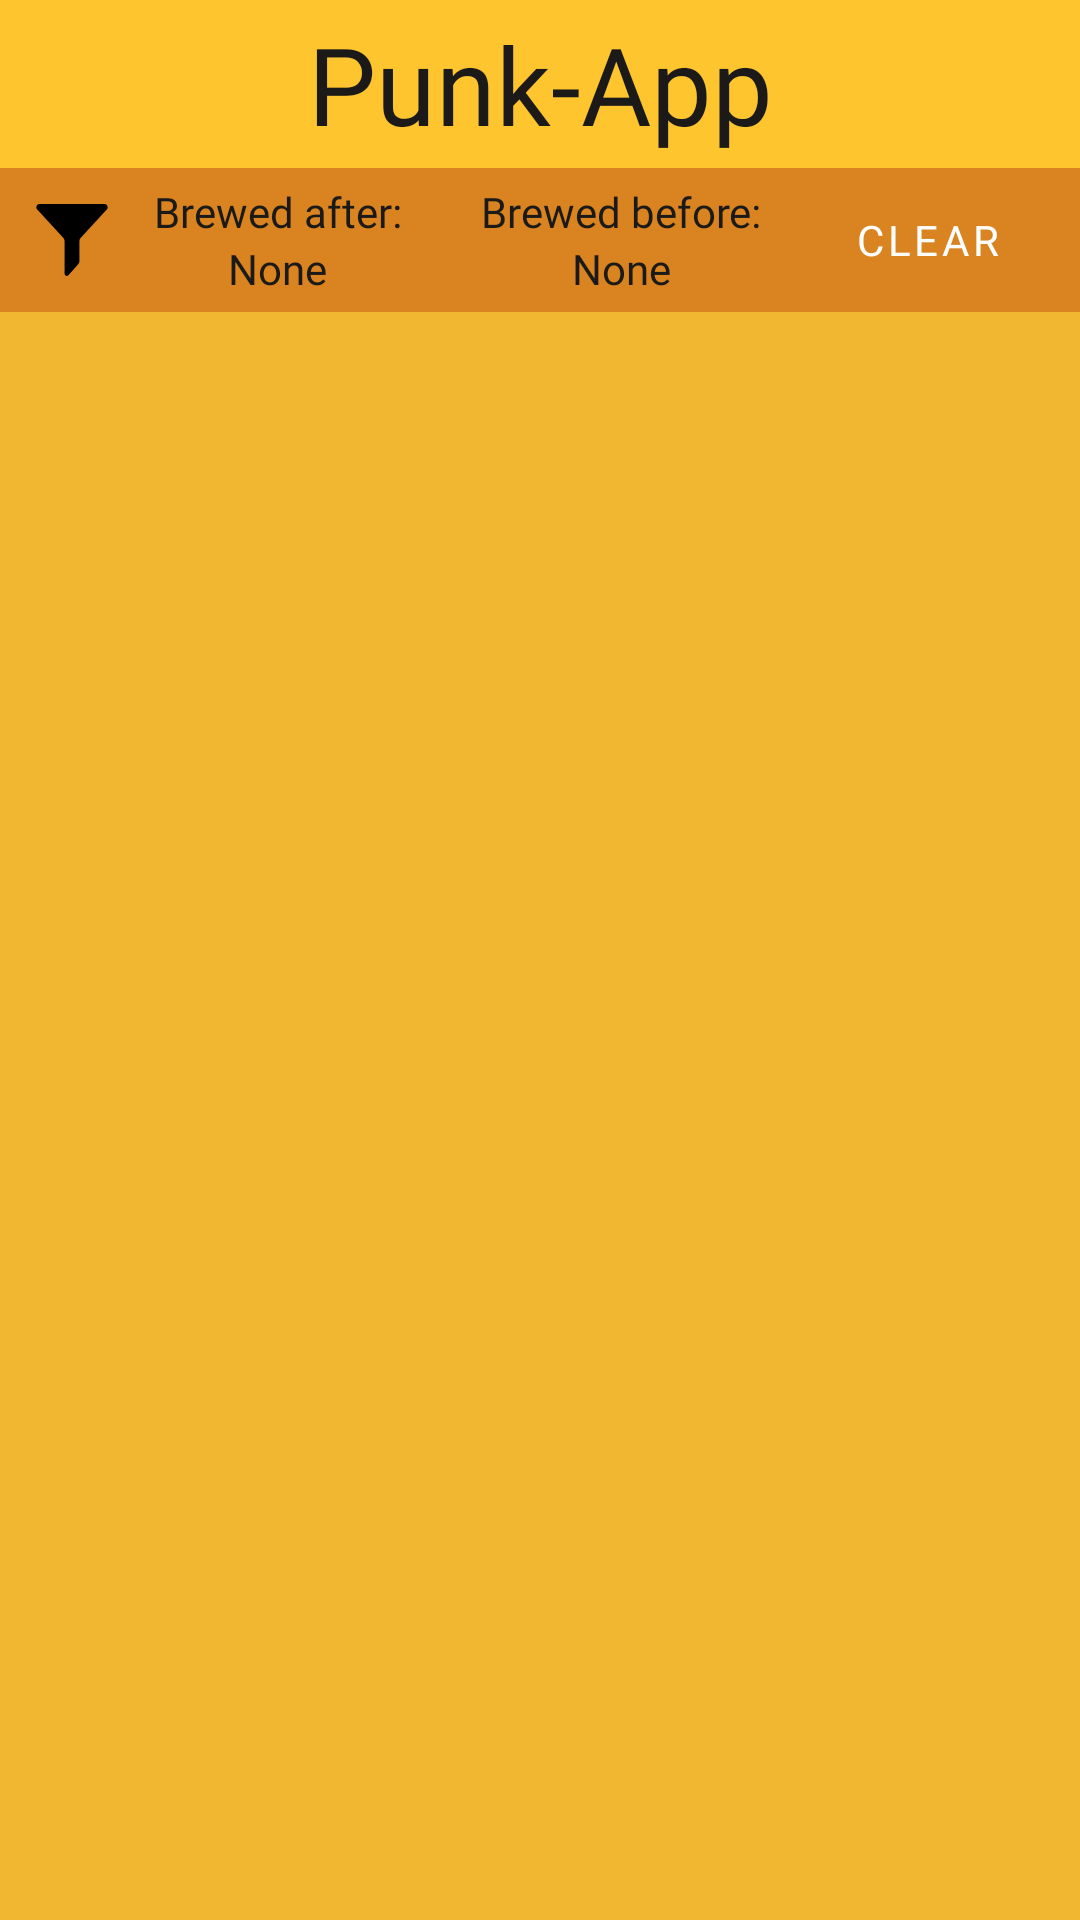

Icon click points for this 1080 × 1920 phone screenshot, format point (x, y):
filter: point (72, 240)
